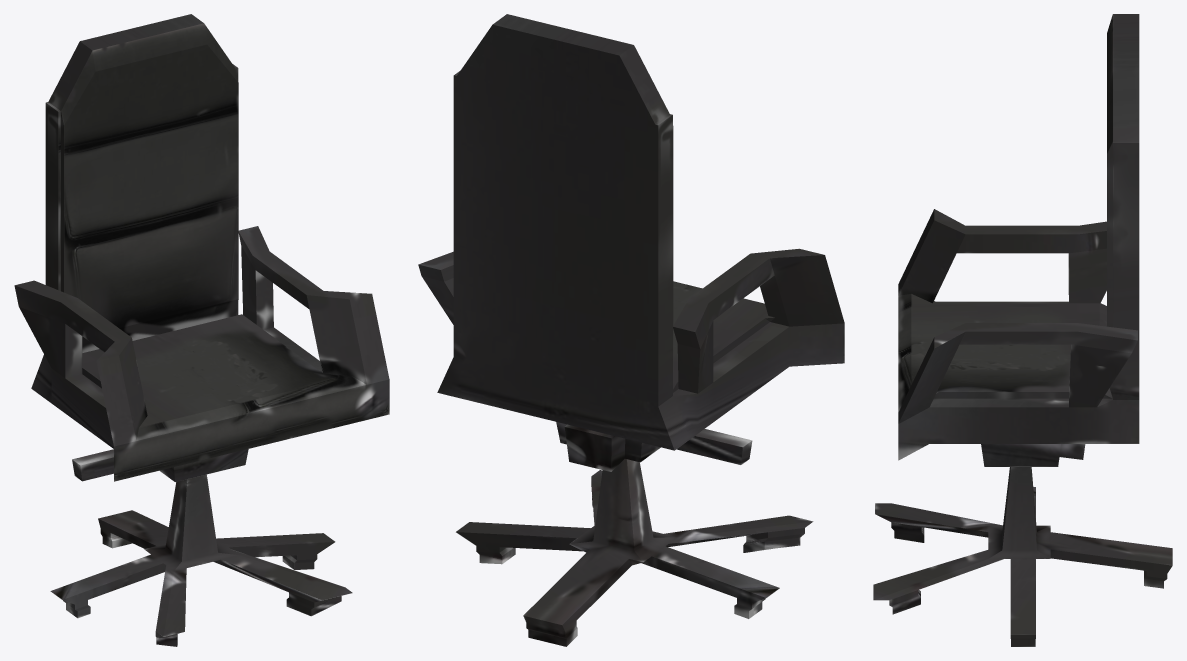
File: OfficeChair.fbx
The picture shows the model from 3 angles, left to right: view 1: azimuth 30°, elevation 25°; view 2: azimuth 150°, elevation 25°; view 3: azimuth 270°, elevation 25°; orthographic projection. The views are drawn at different scales.
Parts seen in each view (by area): view 1: Officechair; view 2: Officechair; view 3: Officechair.
Boxes of the visible parts, <box> form: Officechair: <box>14,14,389,646</box>; Officechair: <box>418,14,844,646</box>; Officechair: <box>873,14,1172,646</box>.
Size of the model in its own units: 80.06 by 146 by 72.42.
